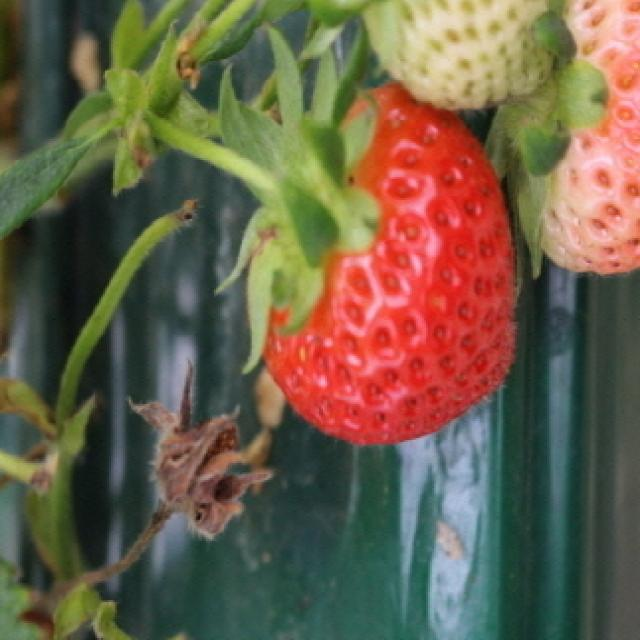Gray Mold: (126, 351, 273, 539)
